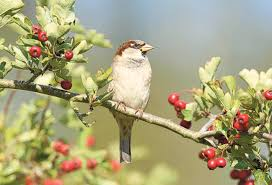hsparrow: (99, 36, 157, 165)
